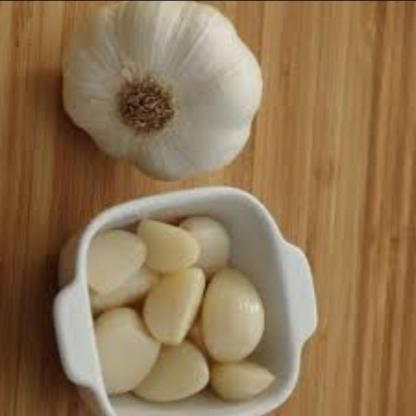garlic: (56, 0, 270, 193), (93, 219, 282, 412)
